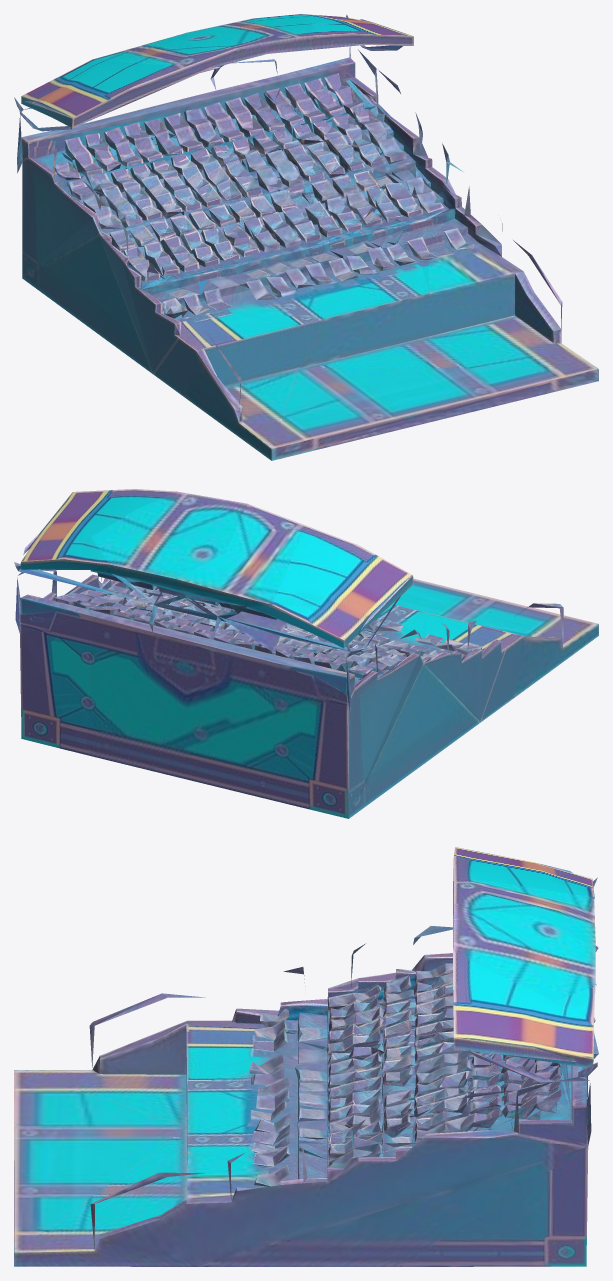
The model's file is stand.glb.
The picture shows the model from 3 angles, top to bottom: view 1: azimuth 30°, elevation 25°; view 2: azimuth 150°, elevation 25°; view 3: azimuth 270°, elevation 25°; orthographic projection. The views are drawn at different scales.
Bounding box in the file's own units: 1.47 × 0.9619 × 1.9.
Materials: 1 (1 with a texture image).
